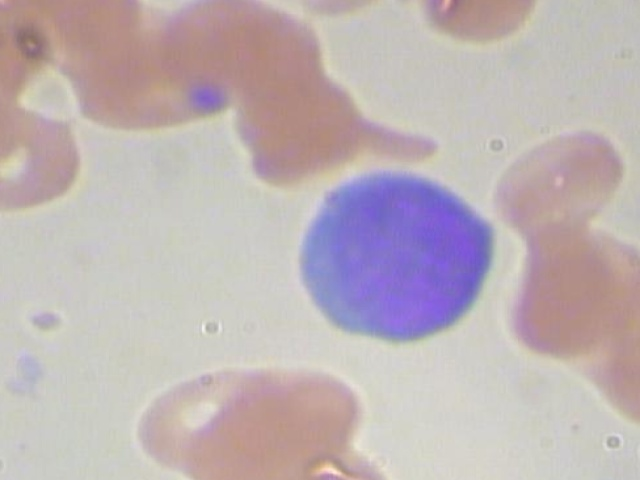RBC: (119, 358, 292, 477), (484, 118, 629, 236), (0, 96, 84, 214)
WBC: (274, 159, 505, 349)
